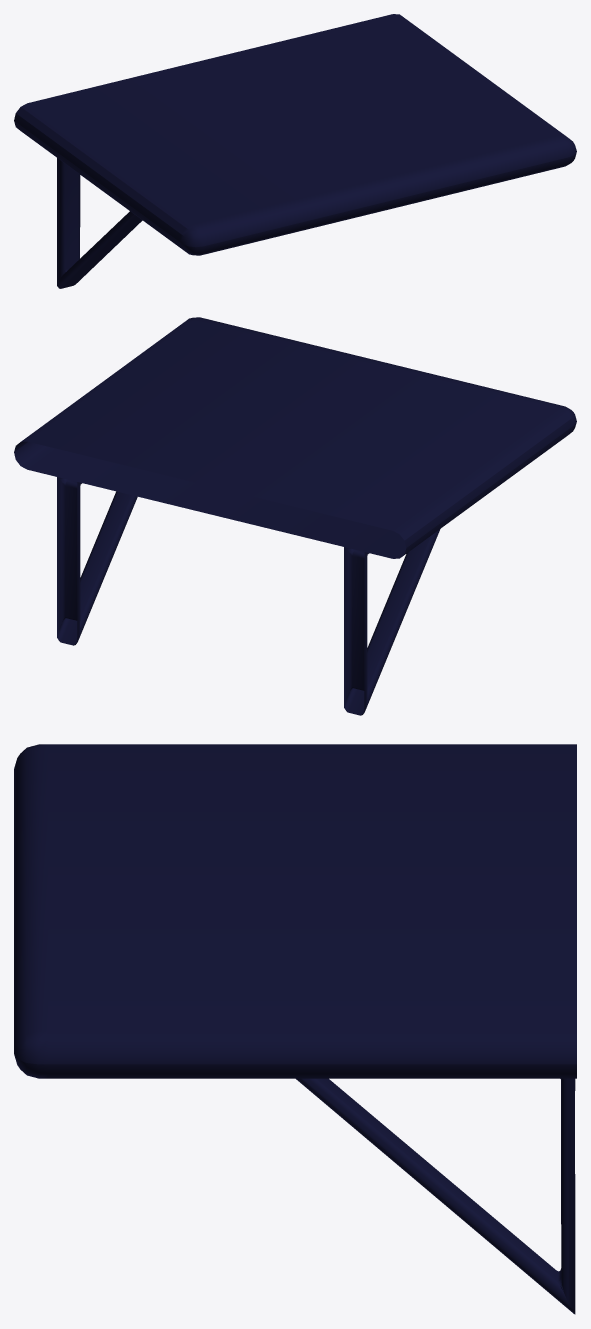
The model's file is ledge1.fbx.
The picture shows the model from 3 angles, top to bottom: view 1: azimuth 30°, elevation 25°; view 2: azimuth 150°, elevation 25°; view 3: azimuth 270°, elevation 25°; orthographic projection. The views are drawn at different scales.
Visible parts, largest first — view 1: Cube.035, Cube.098; view 2: Cube.035, Cube.098, Cube.099; view 3: Cube.035, Cube.099.
Part boxes in pixels (x1,y1,x2,y2): Cube.035: (14,14,576,255); Cube.098: (57,158,142,288); Cube.035: (14,317,576,558); Cube.098: (344,529,440,715); Cube.099: (57,477,137,645); Cube.035: (14,744,576,1078); Cube.099: (296,1078,575,1314).
Bounding box in the file's own units: 33.83 × 15.92 × 26.33.
